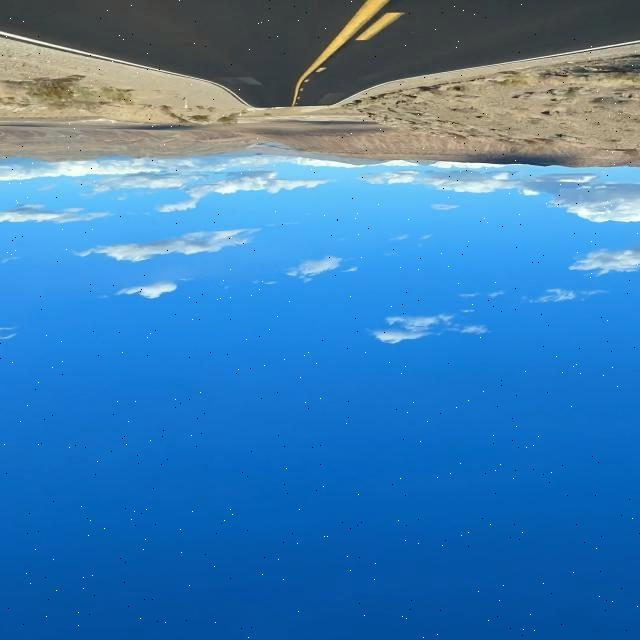lane: (292, 1, 390, 106), (355, 12, 404, 39)
road: (1, 1, 640, 108)
